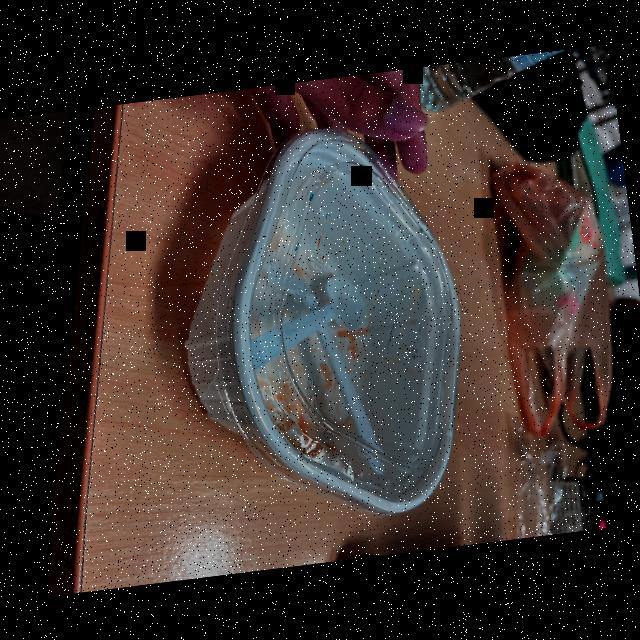plastic_box: (150, 104, 512, 548)
